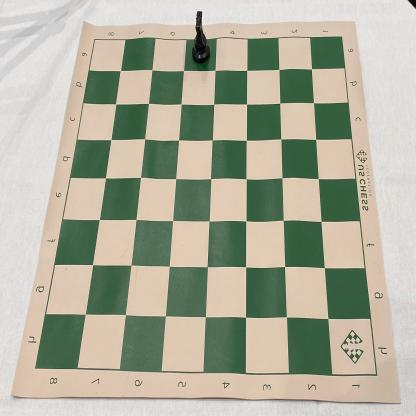black-knight: (192, 11, 210, 64)
